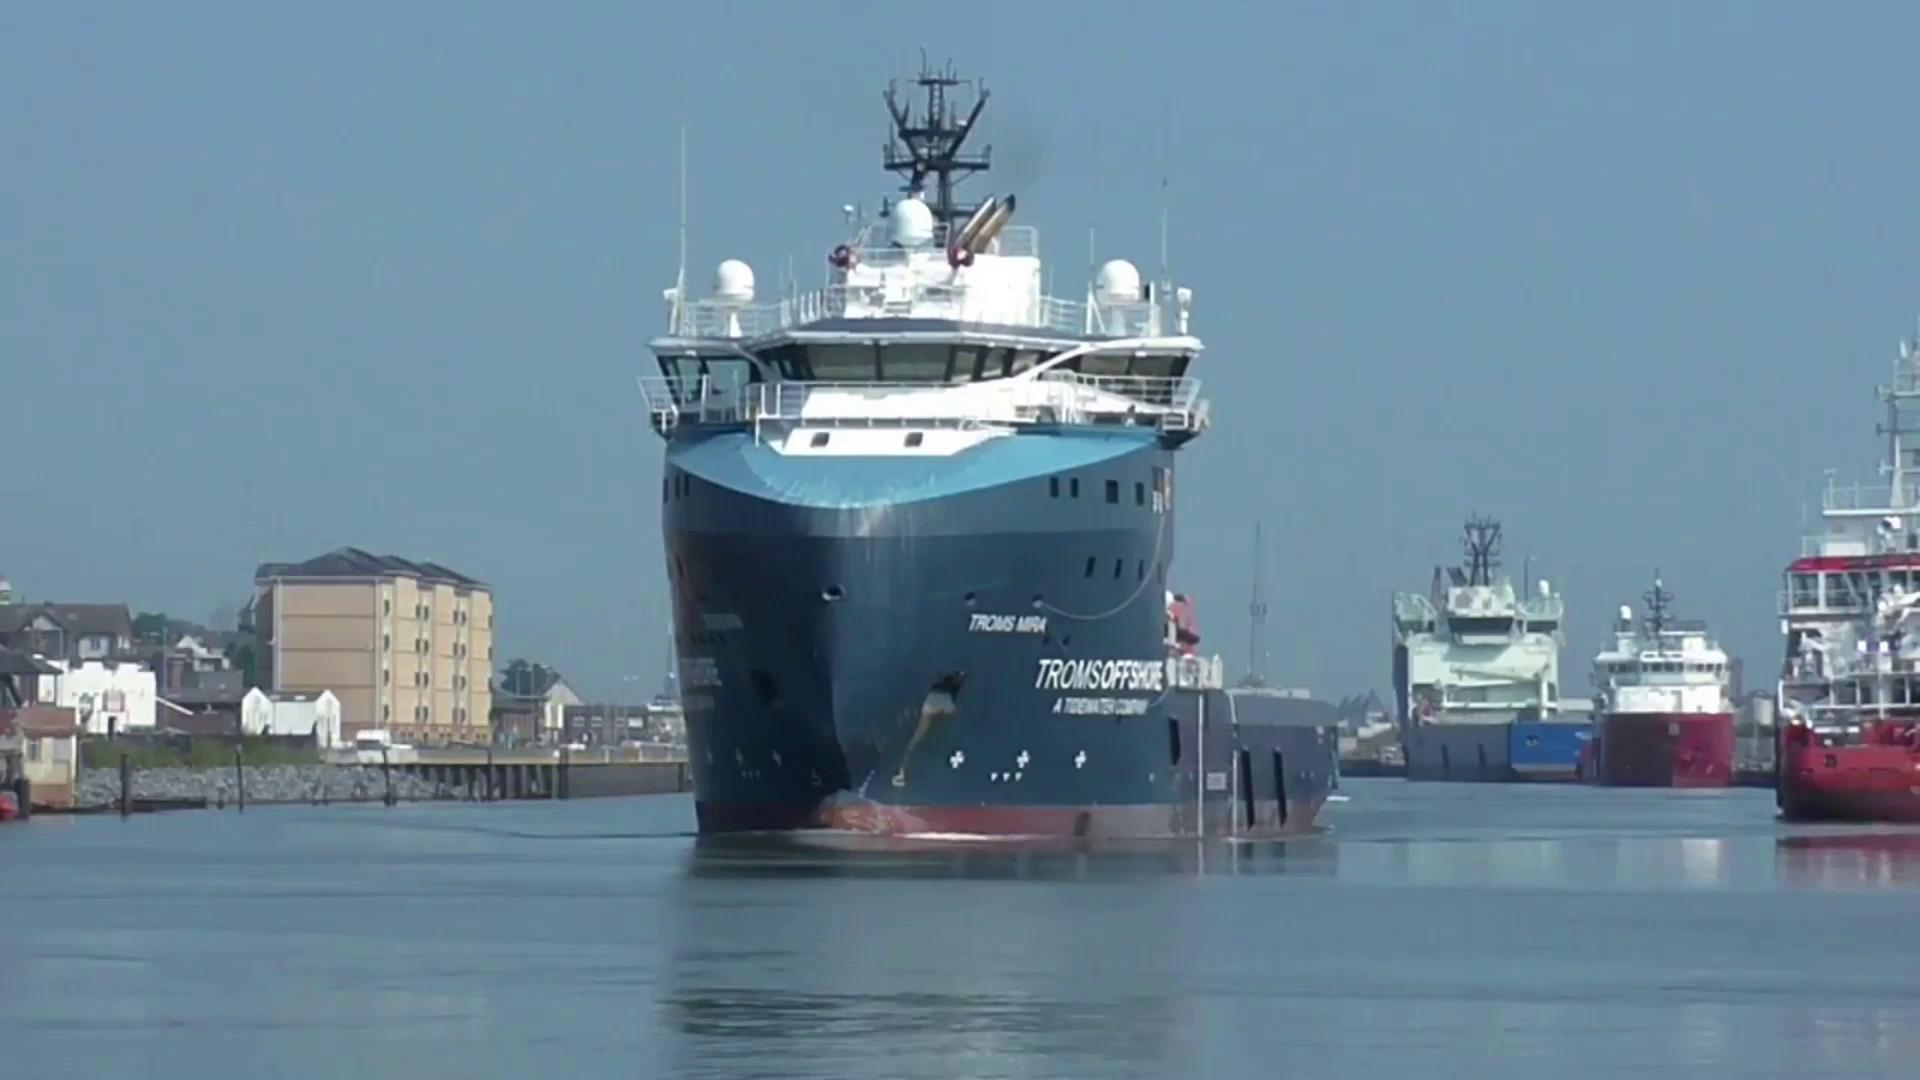OCR: (1029, 640, 1163, 704)
